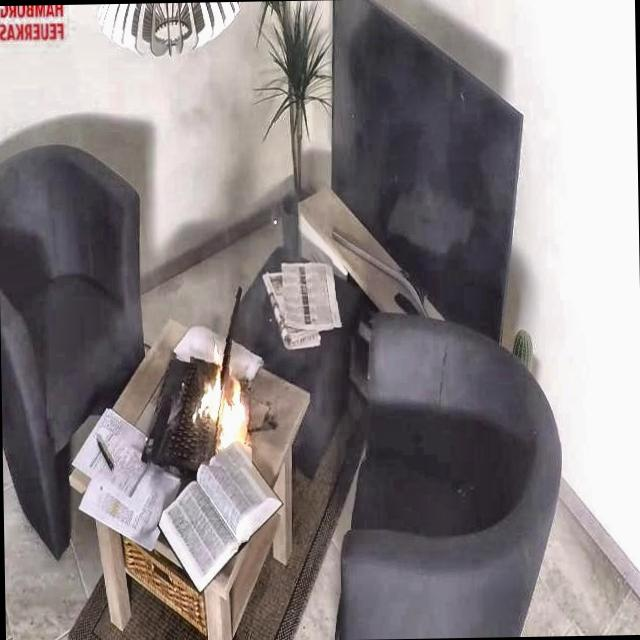fire: (185, 335, 271, 466)
